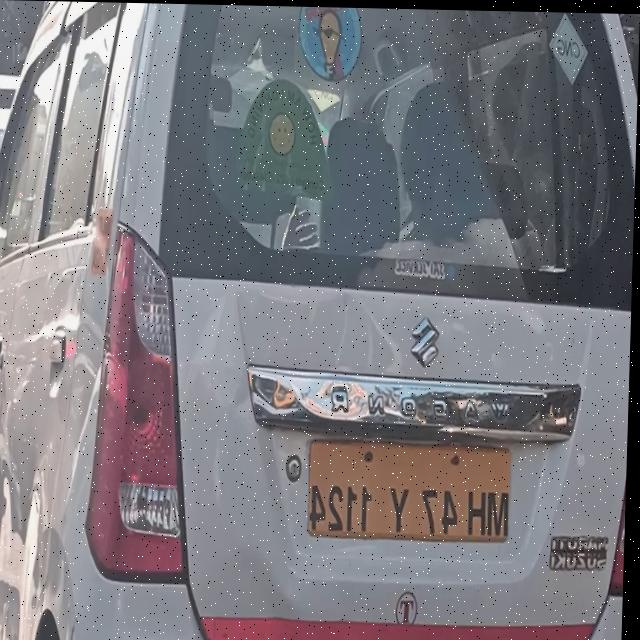plate: (309, 435, 516, 542)
